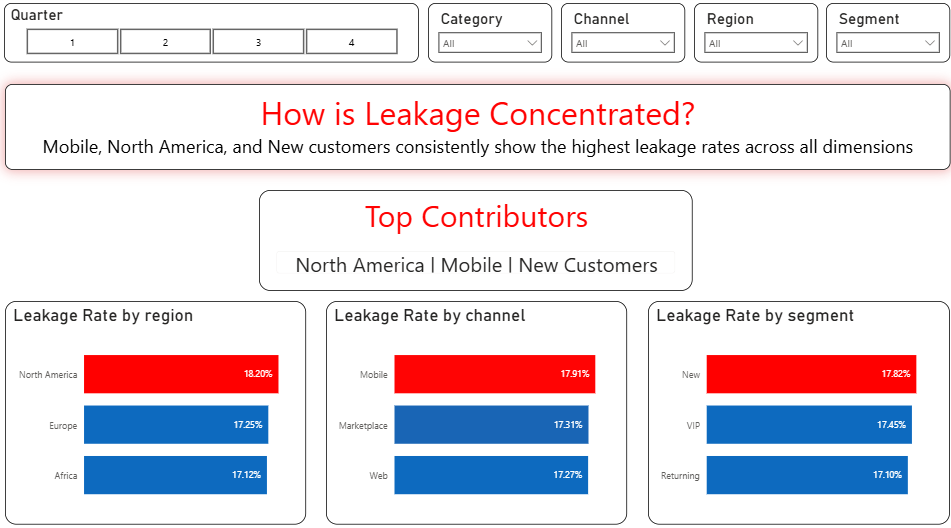

The dashboard page shown, as its layout file describes it:
{"tool":"powerbi","page":{"name":"Leakage Concentration","canvas":[1280,720],"ordinal":1},"visuals":[{"type":"clusteredBarChart","fields":{"Category":["fact_order_items.channel"],"Y":["fact_order_items.Leakage Rate"]},"box":[438.4,406.5,399.8,297.3],"z":0},{"type":"clusteredBarChart","fields":{"Category":["fact_order_items.region"],"Y":["fact_order_items.Leakage Rate"]},"box":[11.8,406.5,399.8,297.3],"z":1000},{"type":"clusteredBarChart","fields":{"Category":["fact_order_items.segment"],"Y":["fact_order_items.Leakage Rate"]},"box":[866.8,406.5,401.5,297.3],"z":2000},{"type":"textbox","box":[11.8,117.8,1256.5,114.2],"z":3000},{"type":"slicer","fields":{"Values":["fact_order_items.channel"]},"box":[750.1,11.1,165,79.4],"z":4000},{"type":"slicer","fields":{"Values":["fact_order_items.region"]},"box":[926.6,11.1,165,79.4],"z":5000},{"type":"slicer","fields":{"Values":["fact_order_items.segment"]},"box":[1103.2,11.1,165,79.4],"z":6000},{"type":"slicer","title":"Quarter","fields":{"Values":["dim_dates.quarter"]},"box":[11.1,11.1,550.8,79.4],"z":7000},{"type":"slicer","fields":{"Values":["fact_order_items.category"]},"box":[573.5,11.1,165.1,79.4],"z":8000},{"type":"cardVisual","title":"Top Contributors","fields":{"Data":["fact_order_items.Top Contributors"]},"box":[349.4,258.7,576.2,134.4],"z":10000}]}

Visuals, with their boxes in screenshot pixels (x1, y1, x2, y2), scaled from the page's 1280x720 canvas onto the 951x528 screenshot:
clusteredBarChart - fact_order_items.channel x fact_order_items.Leakage Rate: (x1=326, y1=298, x2=623, y2=516)
clusteredBarChart - fact_order_items.region x fact_order_items.Leakage Rate: (x1=9, y1=298, x2=306, y2=516)
clusteredBarChart - fact_order_items.segment x fact_order_items.Leakage Rate: (x1=644, y1=298, x2=942, y2=516)
textbox: (x1=9, y1=86, x2=942, y2=170)
slicer - fact_order_items.channel: (x1=557, y1=8, x2=680, y2=66)
slicer - fact_order_items.region: (x1=688, y1=8, x2=811, y2=66)
slicer - fact_order_items.segment: (x1=820, y1=8, x2=942, y2=66)
"Quarter" slicer: (x1=8, y1=8, x2=417, y2=66)
slicer - fact_order_items.category: (x1=426, y1=8, x2=549, y2=66)
"Top Contributors" cardVisual: (x1=260, y1=190, x2=688, y2=288)
